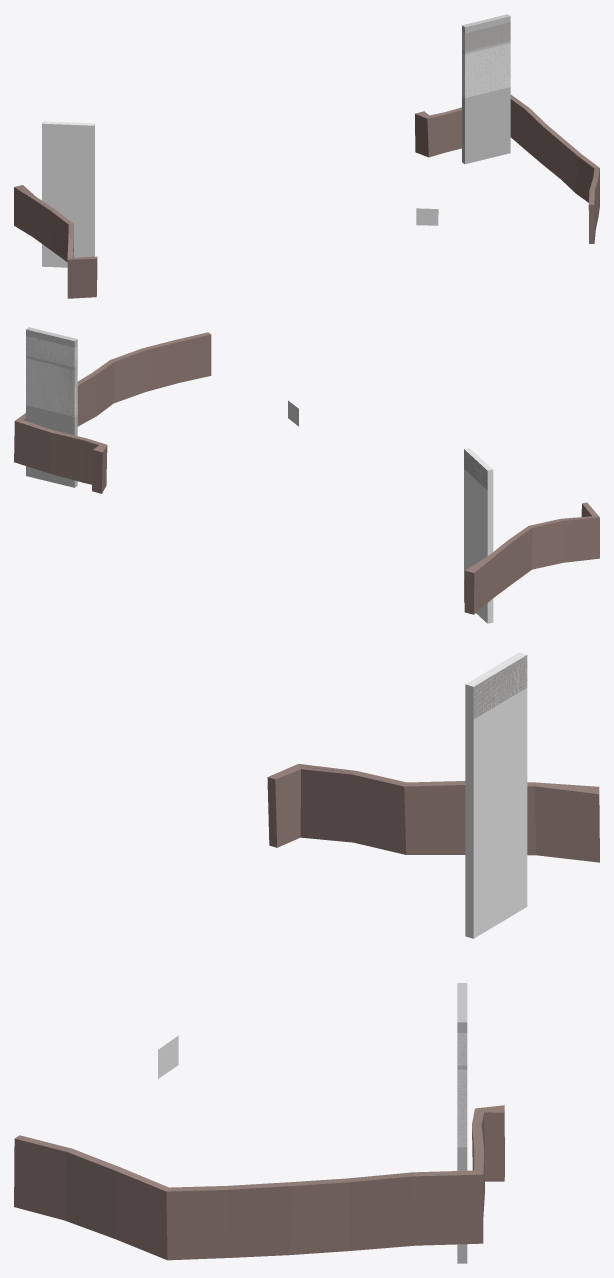
File: garage_bridge.dae
3 views of the same model, one above another, from view 1: azimuth 30°, elevation 25°; view 2: azimuth 150°, elevation 25°; view 3: azimuth 270°, elevation 25° (orthographic). The views are drawn at different scales.
Visible parts, largest first — view 1: Colmesh-1, garage_bridge_a200, garage_bridge_a500; view 2: Colmesh-1, garage_bridge_a200, garage_bridge_a500; view 3: Colmesh-1, garage_bridge_a200, garage_bridge_a500.
Boxes of the visible parts, box(x1,y1,x2,y2) form: Colmesh-1: box(14, 14, 599, 298); garage_bridge_a200: box(42, 22, 510, 225); garage_bridge_a500: box(42, 31, 464, 189); Colmesh-1: box(14, 327, 599, 623); garage_bridge_a200: box(26, 336, 487, 539); garage_bridge_a500: box(74, 347, 588, 539); Colmesh-1: box(14, 656, 599, 1263); garage_bridge_a200: box(158, 655, 527, 1078); garage_bridge_a500: box(308, 652, 599, 1147).
Bounding box in the file's own units: 31.39 × 18.25 × 9.28.
